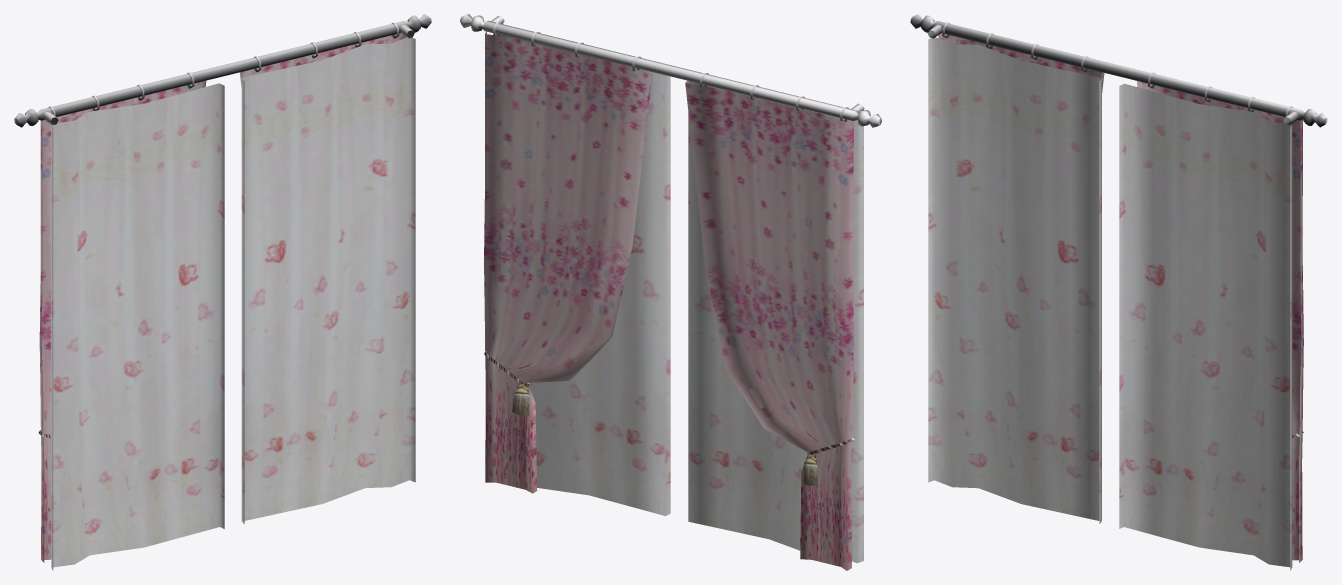
File: furni_0200479.FBX
3 renders of one model, left to right at view 1: azimuth 30°, elevation 25°; view 2: azimuth 150°, elevation 25°; view 3: azimuth 330°, elevation 25°, orthographic.
Visible parts, largest first — view 1: furni_0200479; view 2: furni_0200479; view 3: furni_0200479.
Part boxes in pixels (x1=…): furni_0200479: x1=14, y1=14, x2=431, y2=570; furni_0200479: x1=460, y1=14, x2=881, y2=570; furni_0200479: x1=910, y1=14, x2=1327, y2=570.
Bounding box in the file's own units: 190 × 200 × 15.33.
2 materials, 2 textured.
